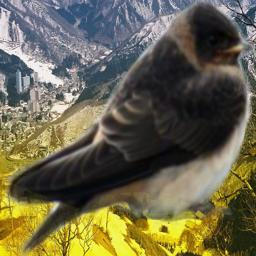Swallow: (6, 0, 255, 256)
